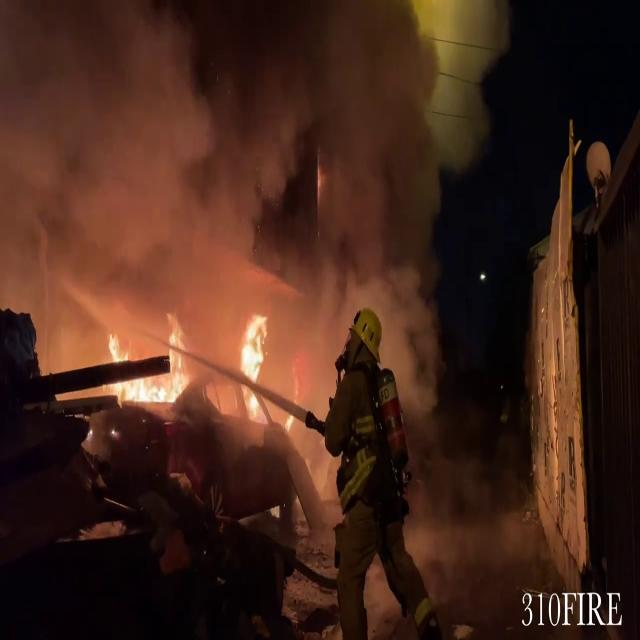Fire: (100, 320, 192, 412), (231, 308, 275, 408)
Smoke: (0, 0, 458, 361)
